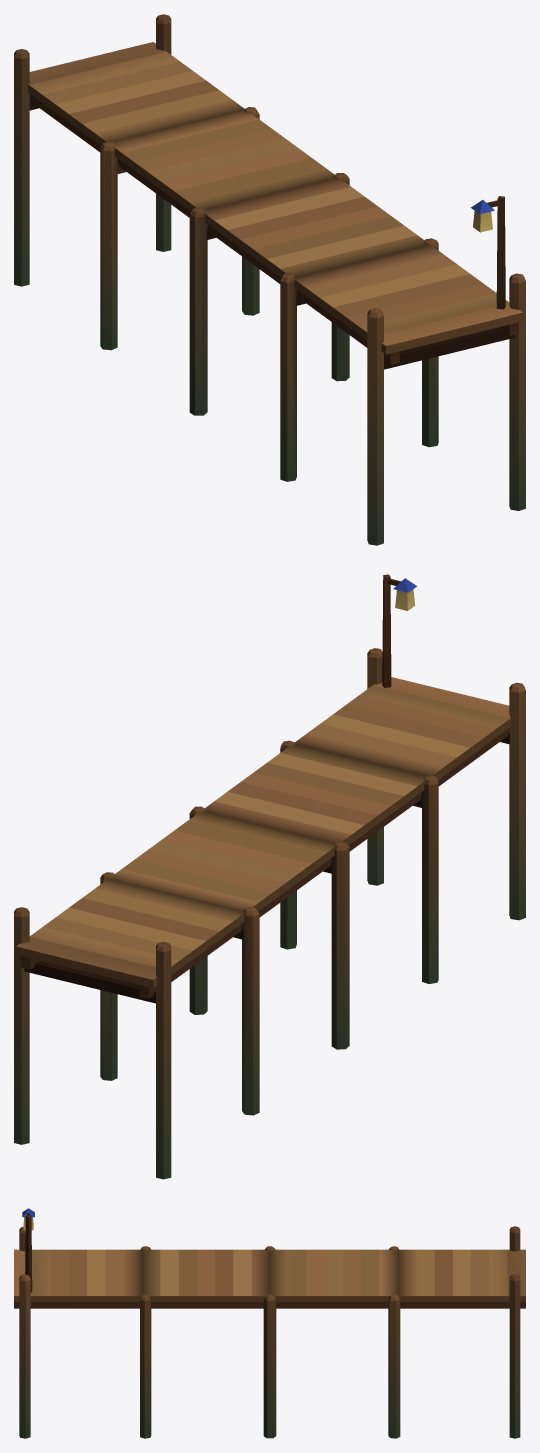
Rendered from Pier.fbx.
3 views of the same model, one above another, from view 1: azimuth 30°, elevation 25°; view 2: azimuth 150°, elevation 25°; view 3: azimuth 270°, elevation 25° (orthographic). The views are drawn at different scales.
Parts seen in each view (by area): view 1: Pier; view 2: Pier; view 3: Pier.
Part boxes in pixels (box(x1,y1,x2,y2)): Pier: box(14, 14, 525, 545); Pier: box(14, 574, 525, 1179); Pier: box(14, 1208, 525, 1438).
Size of the model in its own units: 3.44 by 6.55 by 14.
